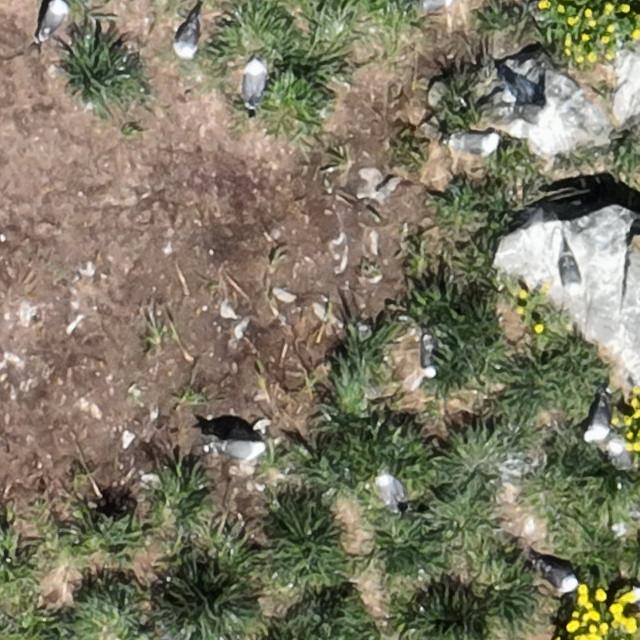umineko: (585, 394, 613, 446), (542, 565, 578, 592), (516, 103, 556, 127), (604, 437, 631, 471), (42, 1, 67, 36), (453, 132, 495, 152), (376, 474, 402, 506), (218, 441, 261, 460), (243, 62, 263, 102), (178, 24, 199, 57), (564, 254, 580, 290), (420, 336, 434, 373), (423, 0, 453, 9)
